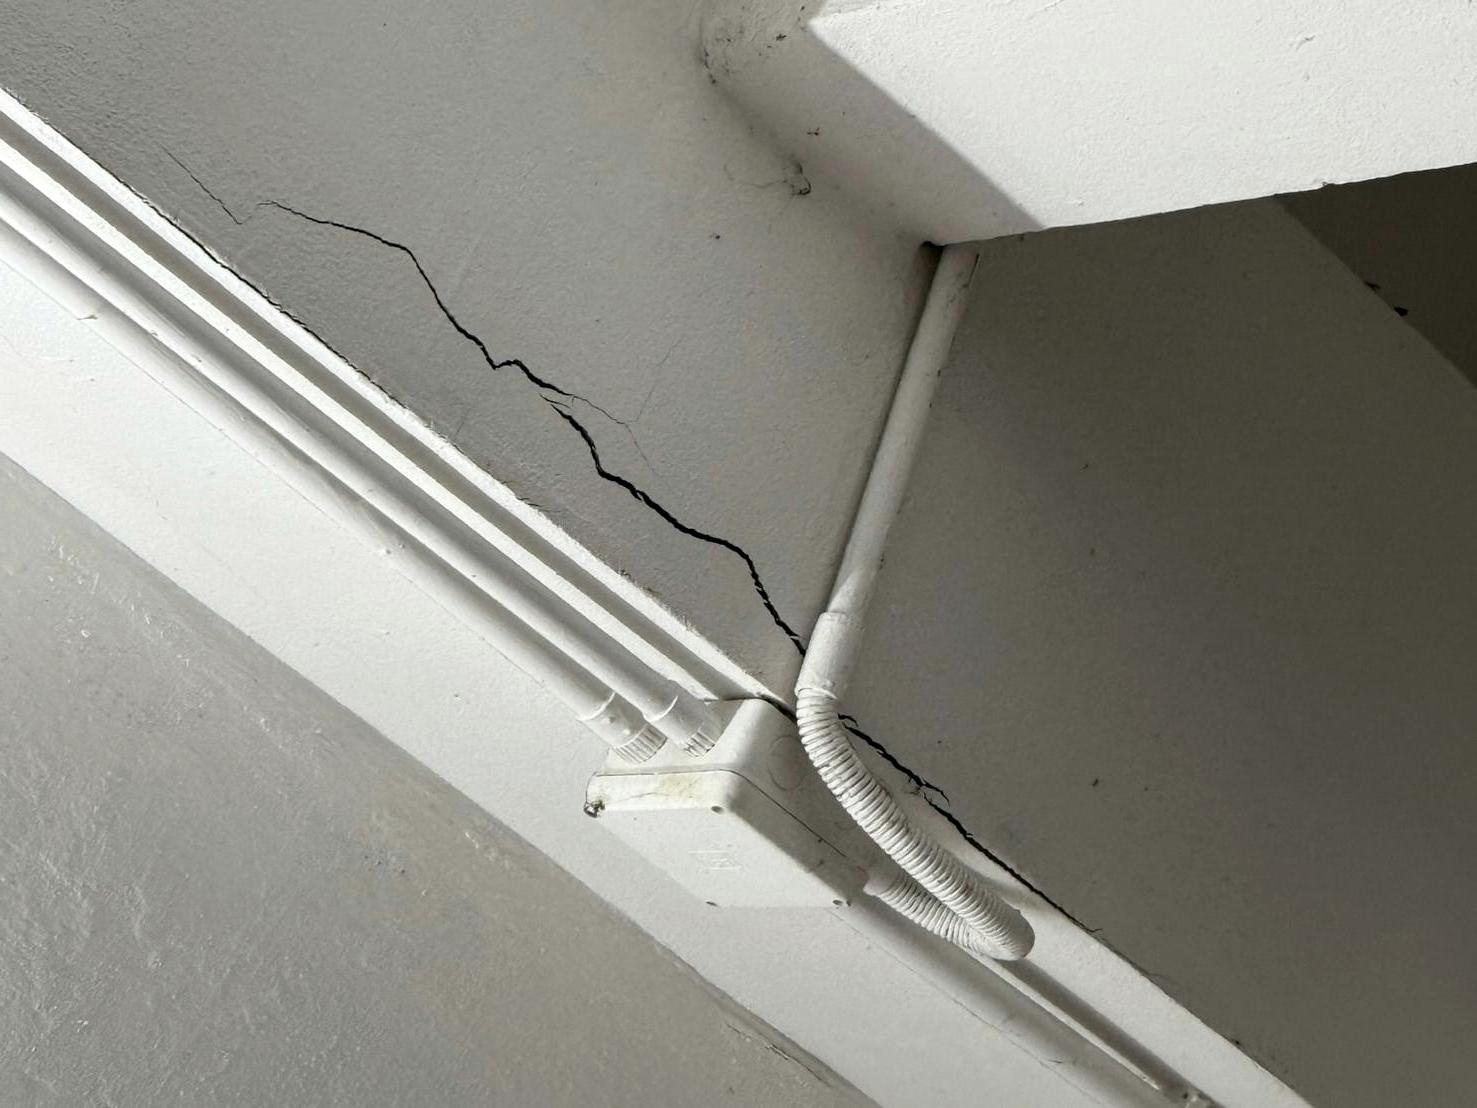High: (172, 169, 1150, 952)
